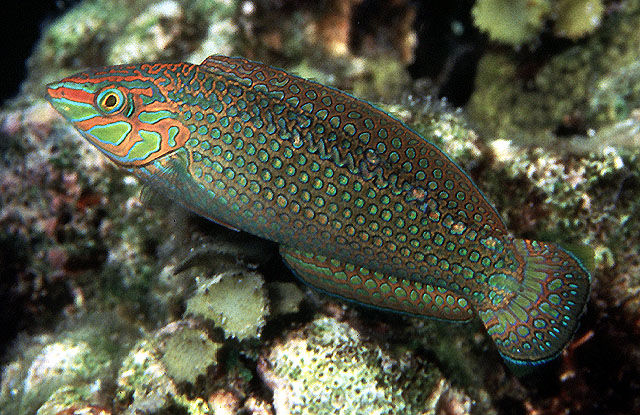fish: (45, 54, 594, 367)
